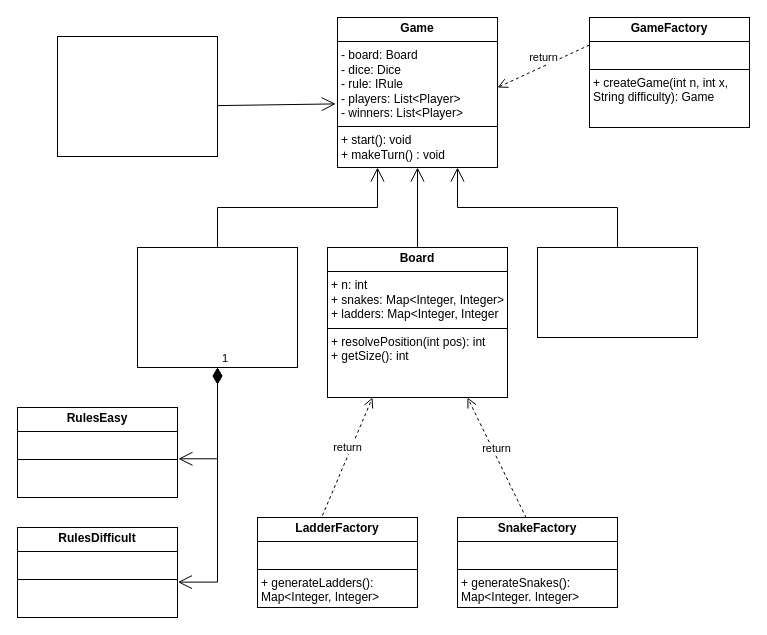
Some shapes in this 767 by 635 pixel diagram are drawn without their labels. Here are the shapes that lost their labels. From the top down, the centre of each, then its label:
the point at 137,96: Player + id: String + pos: int + setPosition(int): void + getPosition(int): int
the point at 217,307: <<Interface>> IRule + makeMove(Player p, Board b, Dice d): int
the point at 617,292: Dice - sides: final int + roll(): int
